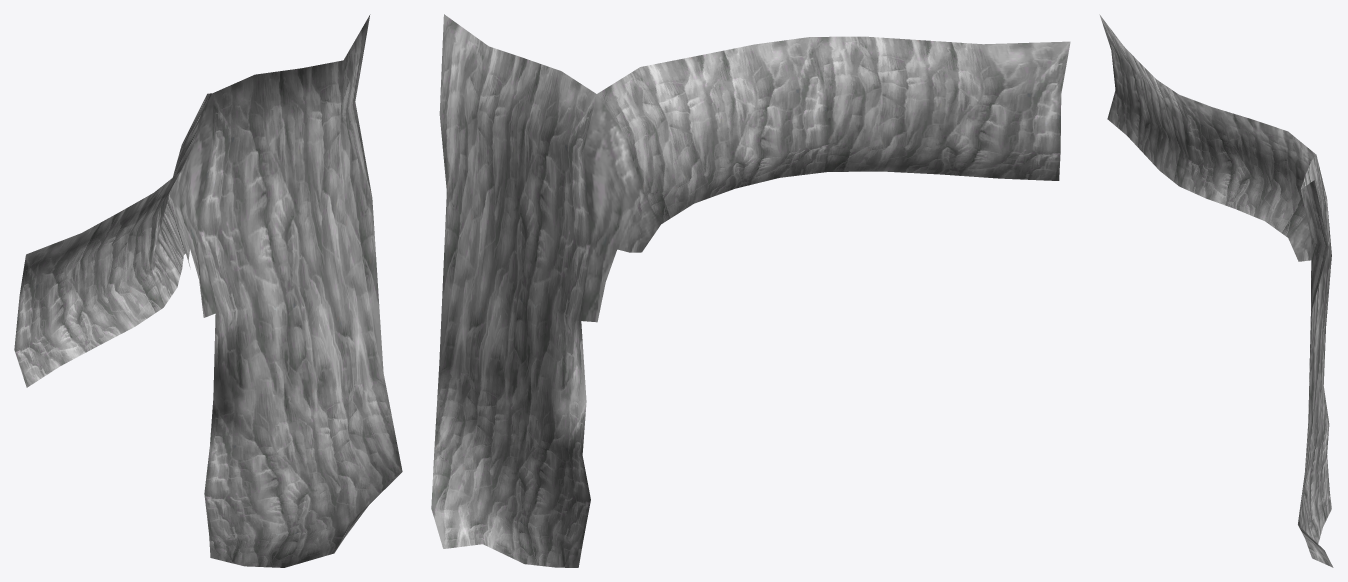
The model's file is SWORDLIGHT20_PS-AREA03_161.fbx.
3 renders of one model, left to right at view 1: azimuth 30°, elevation 25°; view 2: azimuth 150°, elevation 25°; view 3: azimuth 270°, elevation 25°, orthographic. The views are drawn at different scales.
Visible parts, largest first — view 1: SWORDLIGHT20_PS-AREA03_161; view 2: SWORDLIGHT20_PS-AREA03_161; view 3: SWORDLIGHT20_PS-AREA03_161.
Boxes of the visible parts, bbox=[...] form: SWORDLIGHT20_PS-AREA03_161: bbox=[14, 14, 402, 567]; SWORDLIGHT20_PS-AREA03_161: bbox=[431, 14, 1070, 567]; SWORDLIGHT20_PS-AREA03_161: bbox=[1099, 14, 1333, 567].
Bounding box in the file's own units: 152882 × 152905 × 81864.
Materials: 2 (2 with a texture image).
